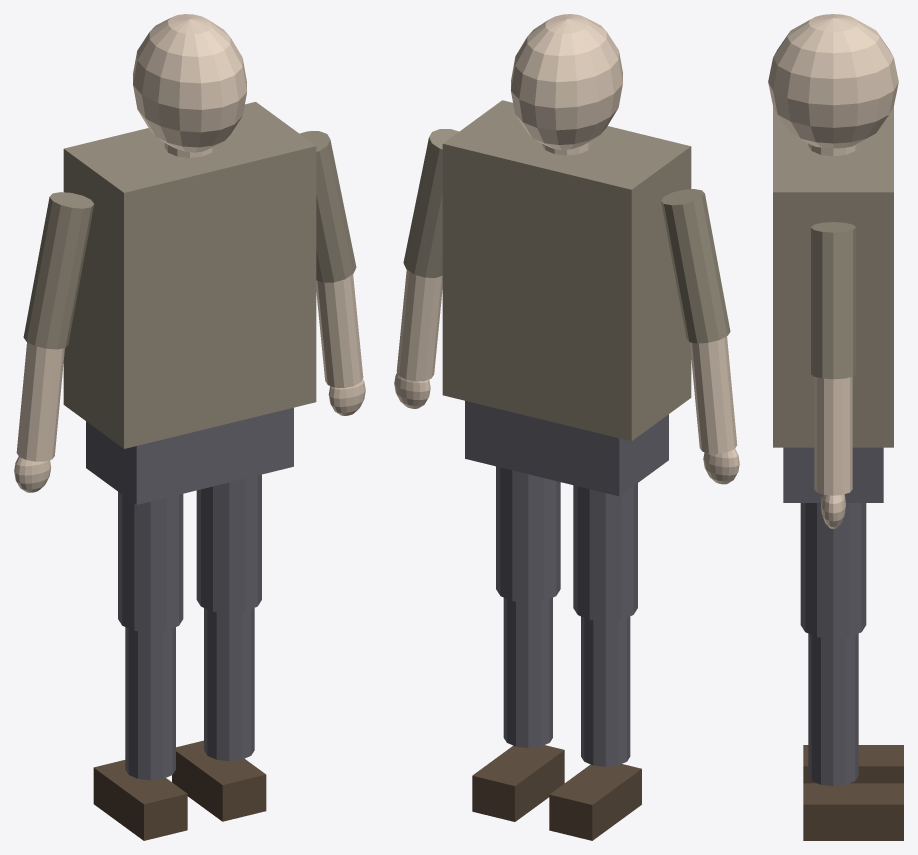
The model's file is char_player_male_lod0.gltf.
The picture shows the model from 3 angles, left to right: view 1: azimuth 30°, elevation 25°; view 2: azimuth 150°, elevation 25°; view 3: azimuth 270°, elevation 25°; orthographic projection.
Visible parts, largest first — view 1: Torso, Head, Hips, Leg_L_Upper, Leg_R_Upper, Leg_L_Lower, Leg_R_Lower, Arm_L_Upper, Foot_L, Foot_R, Arm_L_Lower, Arm_R_Upper (+3 smaller); view 2: Torso, Head, Hips, Leg_L_Upper, Leg_R_Upper, Leg_L_Lower, Leg_R_Lower, Arm_L_Upper, Foot_L, Foot_R, Arm_L_Lower, Arm_R_Upper (+3 smaller); view 3: Torso, Head, Leg_R_Upper, Leg_R_Lower, Arm_R_Upper, Foot_R, Arm_R_Lower, Hips, Foot_L, Hand_R, Neck.
Part boxes in pixels (<box>): Torso: <box>63,102,316,448</box>; Head: <box>133,14,246,152</box>; Hips: <box>86,407,293,504</box>; Leg_L_Upper: <box>118,492,183,632</box>; Leg_R_Upper: <box>196,474,261,613</box>; Leg_L_Lower: <box>125,627,175,780</box>; Leg_R_Lower: <box>204,608,254,761</box>; Arm_L_Upper: <box>23,192,94,349</box>; Foot_L: <box>93,760,187,840</box>; Foot_R: <box>172,740,266,821</box>; Arm_L_Lower: <box>16,342,64,461</box>; Arm_R_Upper: <box>300,131,356,282</box>; Torso: <box>442,100,691,441</box>; Head: <box>511,14,622,150</box>; Hips: <box>465,401,668,496</box>; Leg_L_Upper: <box>573,483,637,621</box>; Leg_R_Upper: <box>496,466,560,602</box>; Leg_L_Lower: <box>581,616,630,766</box>; Leg_R_Lower: <box>503,597,552,747</box>; Arm_L_Upper: <box>661,189,730,343</box>; Foot_L: <box>549,764,641,840</box>; Foot_R: <box>472,745,564,821</box>; Arm_L_Lower: <box>690,336,737,453</box>; Arm_R_Upper: <box>403,129,458,277</box>; Torso: <box>773,106,893,447</box>; Head: <box>768,14,898,148</box>; Leg_R_Upper: <box>800,503,866,638</box>; Leg_R_Lower: <box>808,633,858,786</box>; Arm_R_Upper: <box>811,222,855,379</box>; Foot_R: <box>803,783,903,840</box>; Arm_R_Lower: <box>814,377,852,495</box>; Hips: <box>783,447,883,502</box>; Foot_L: <box>803,745,903,783</box>; Hand_R: <box>821,494,845,528</box>; Neck: <box>808,143,858,156</box>.
Bounding box in the file's own units: 0.8 × 1.74 × 0.27.
